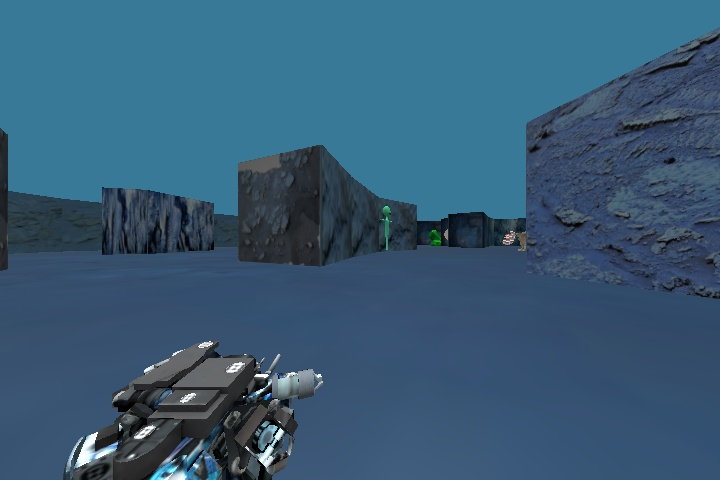green_alien: (373, 205, 399, 253)
green_crystal: (423, 225, 443, 248)
